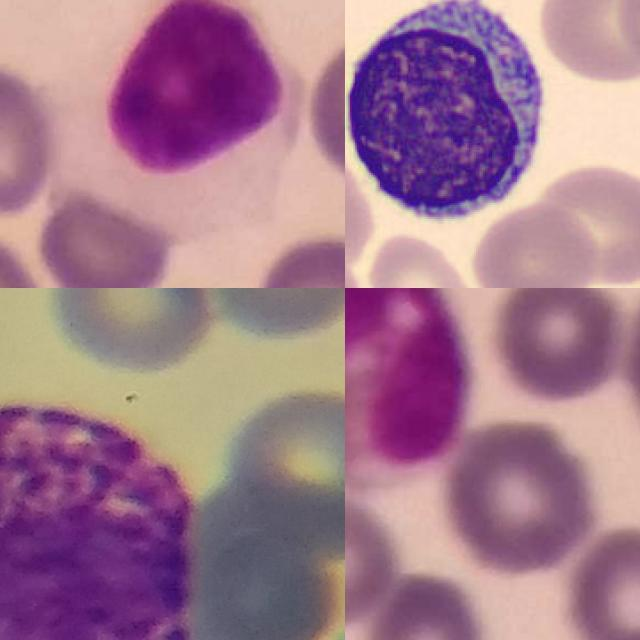Basophil: (0, 401, 201, 640)
Eosinophil: (345, 288, 469, 496)
Lymphocyte: (56, 0, 302, 227), (345, 0, 557, 234)
RBC: (527, 160, 640, 288), (467, 199, 600, 288), (533, 0, 640, 87), (364, 228, 494, 288), (345, 128, 378, 275)
